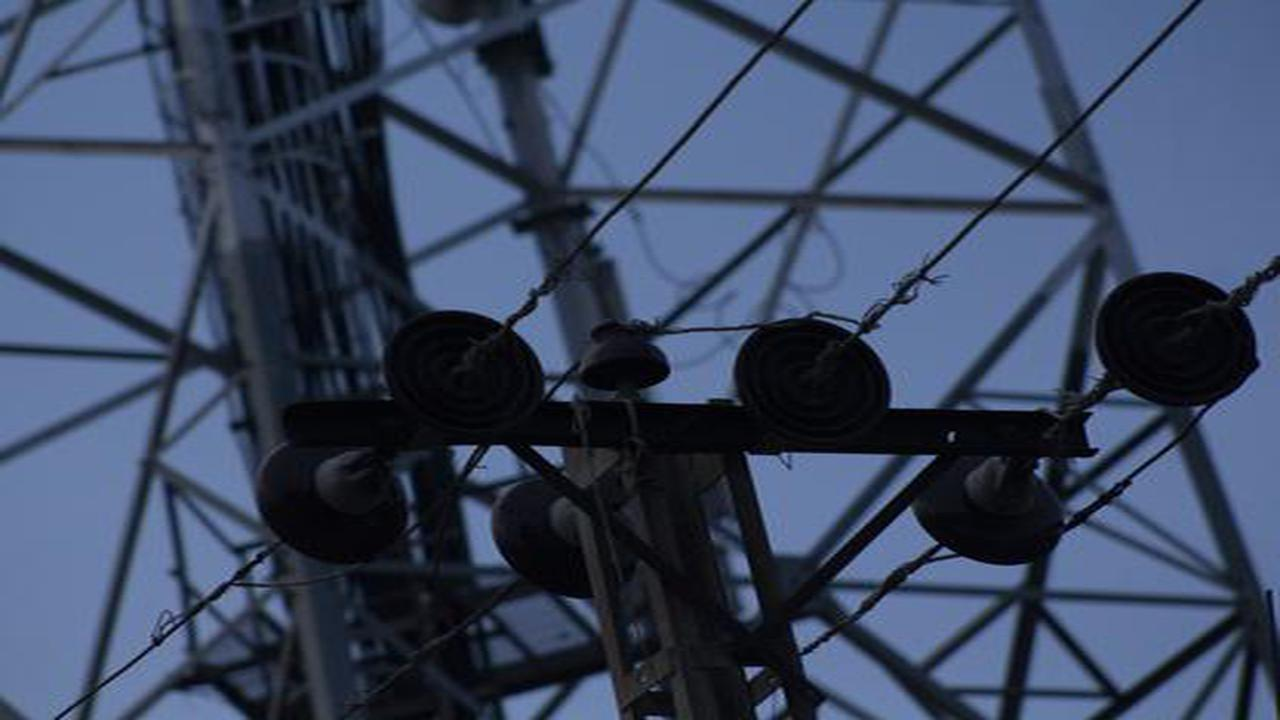insulator_disc: (732, 312, 904, 457), (381, 309, 552, 447), (1090, 270, 1263, 406), (254, 435, 412, 565), (921, 437, 1070, 568), (488, 477, 602, 591)
insulator_pin: (575, 314, 679, 398)
